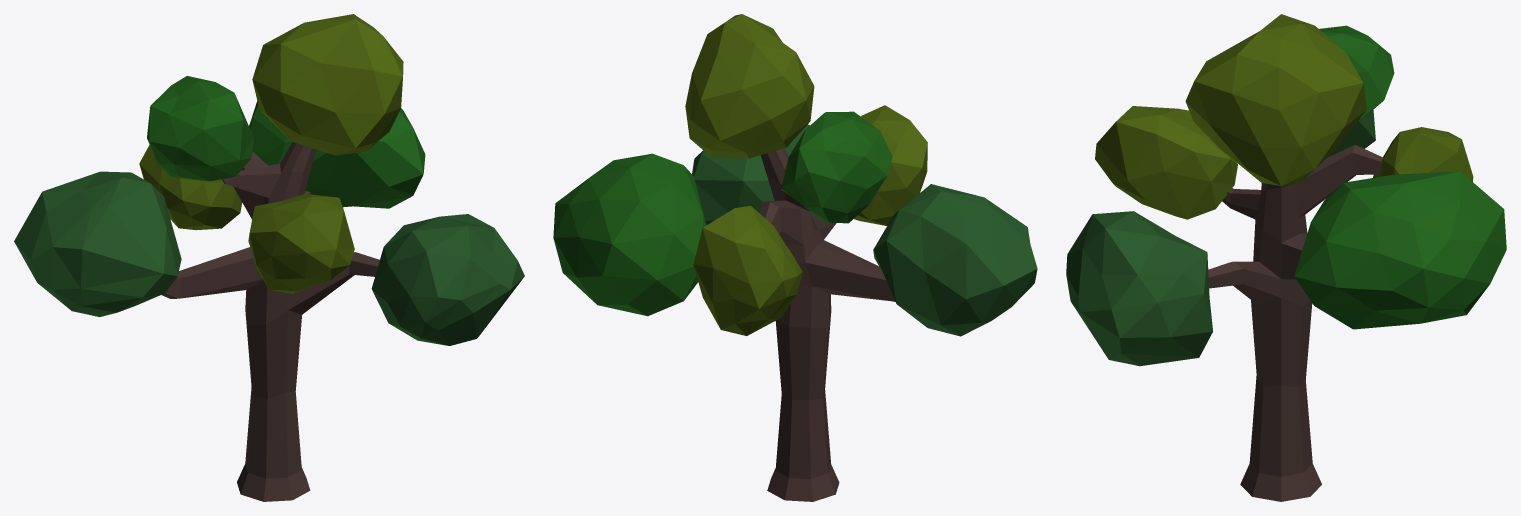
The model's file is leave tree.fbx.
3 renders of one model, left to right at view 1: azimuth 30°, elevation 25°; view 2: azimuth 150°, elevation 25°; view 3: azimuth 270°, elevation 25°, orthographic. The views are drawn at different scales.
Visible parts, largest first — view 1: leaves tree; view 2: leaves tree; view 3: leaves tree.
Boxes of the visible parts, box(x1,y1,x2,y2) form: leaves tree: box(14, 14, 524, 501); leaves tree: box(553, 14, 1037, 501); leaves tree: box(1066, 14, 1506, 501).
Bounding box in the file's own units: 621 × 634 × 515.
